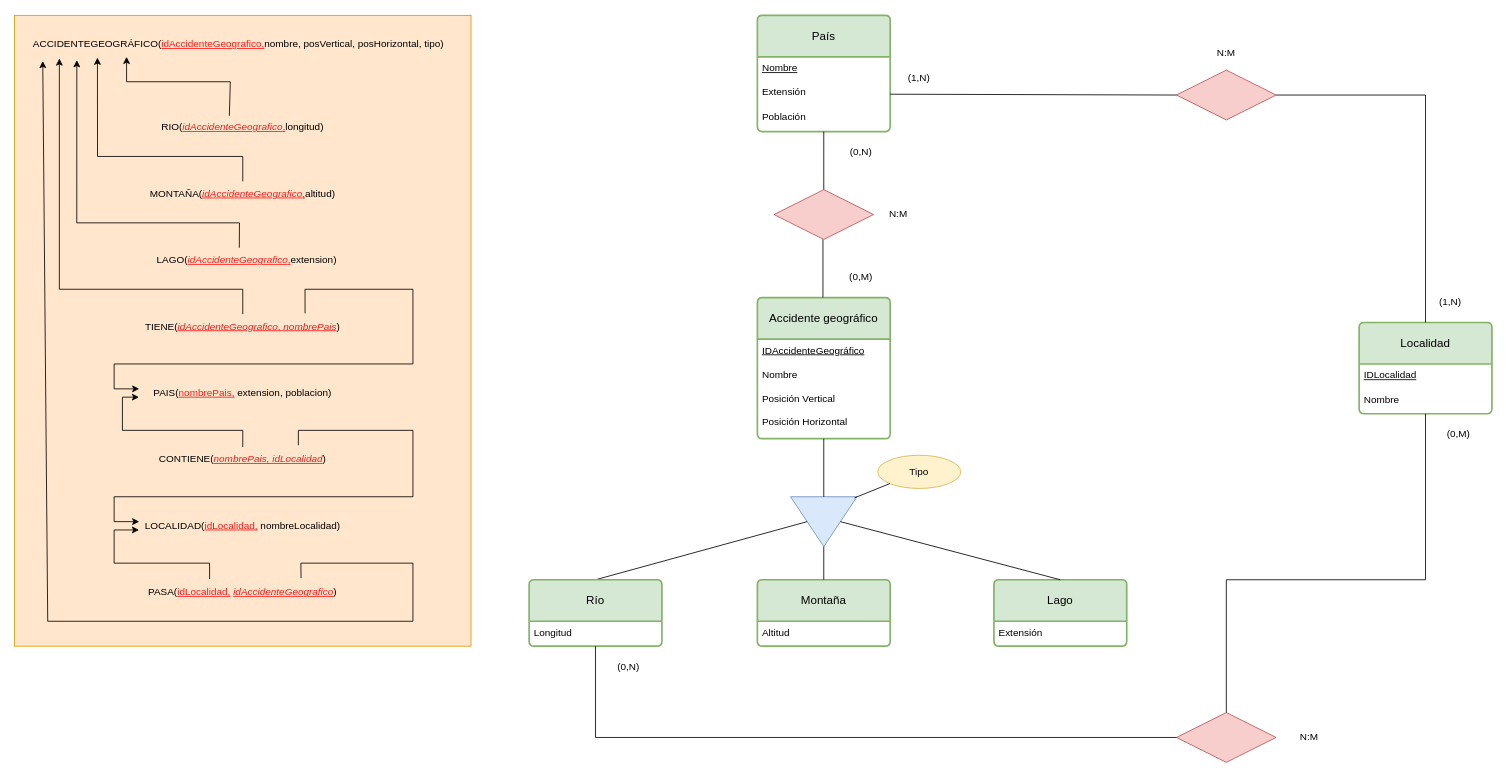
The diagram is 1507 pixels wide and 777 high, and some of its shapes have lost their labels. The shapes that lost their labels are listed below. From the top down, each one's centre as x and y in pixels, then its label:
(1226,94): Contiene
(823,214): Tiene
(1226,737): Pasa
